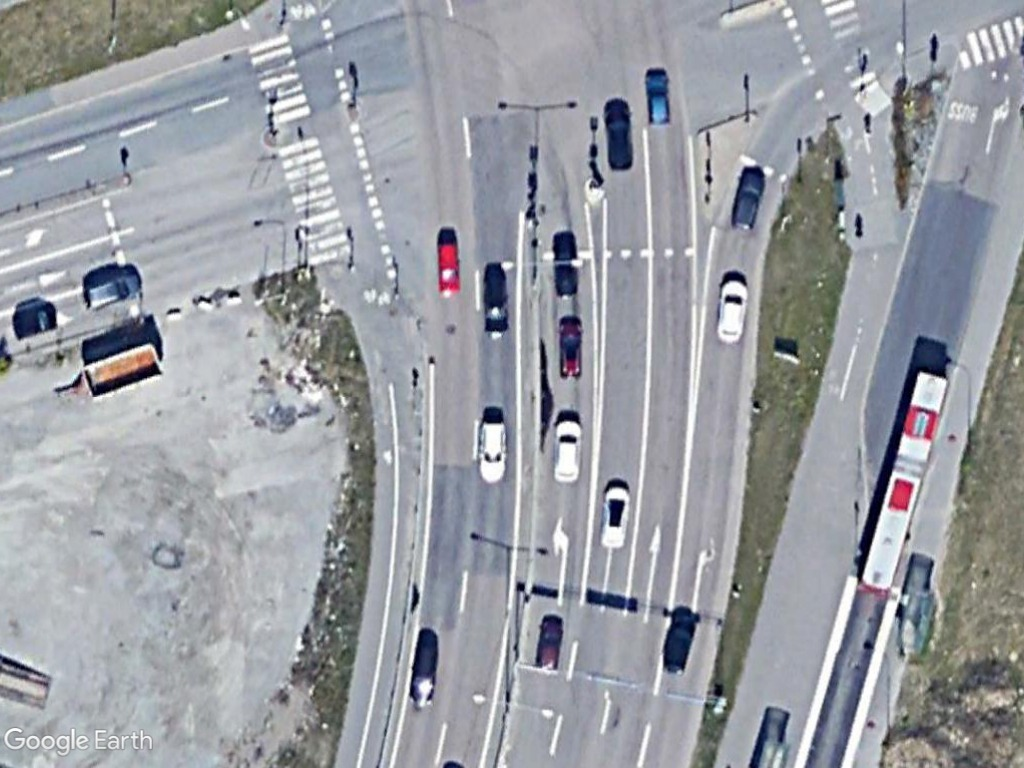bus: (854, 365, 958, 601)
car: (596, 475, 638, 557), (712, 270, 754, 349), (80, 265, 146, 315), (727, 160, 770, 236), (656, 604, 699, 679), (600, 100, 639, 177), (480, 266, 516, 346), (549, 412, 586, 487), (476, 415, 512, 488), (553, 313, 589, 385), (431, 234, 468, 302), (530, 613, 569, 676), (641, 65, 676, 134)
